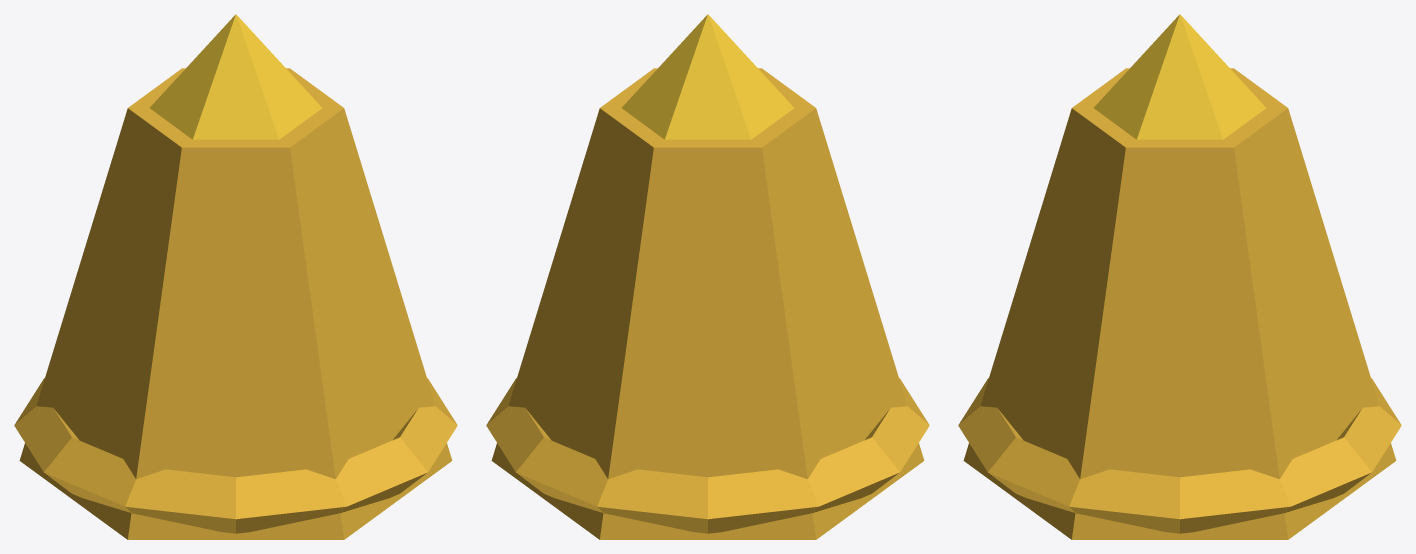
Rendered from reliquia_topazio.glb.
3 renders of one model, left to right at view 1: azimuth 30°, elevation 25°; view 2: azimuth 150°, elevation 25°; view 3: azimuth 270°, elevation 25°, orthographic.
Visible parts, largest first — view 1: reliquia_topazio; view 2: reliquia_topazio; view 3: reliquia_topazio.
Part boxes in pixels (x1,y1,x2,y2): reliquia_topazio: (14,14,457,539); reliquia_topazio: (486,14,929,539); reliquia_topazio: (958,14,1401,539).
Bounding box in the file's own units: 1.8 × 2 × 1.8.
